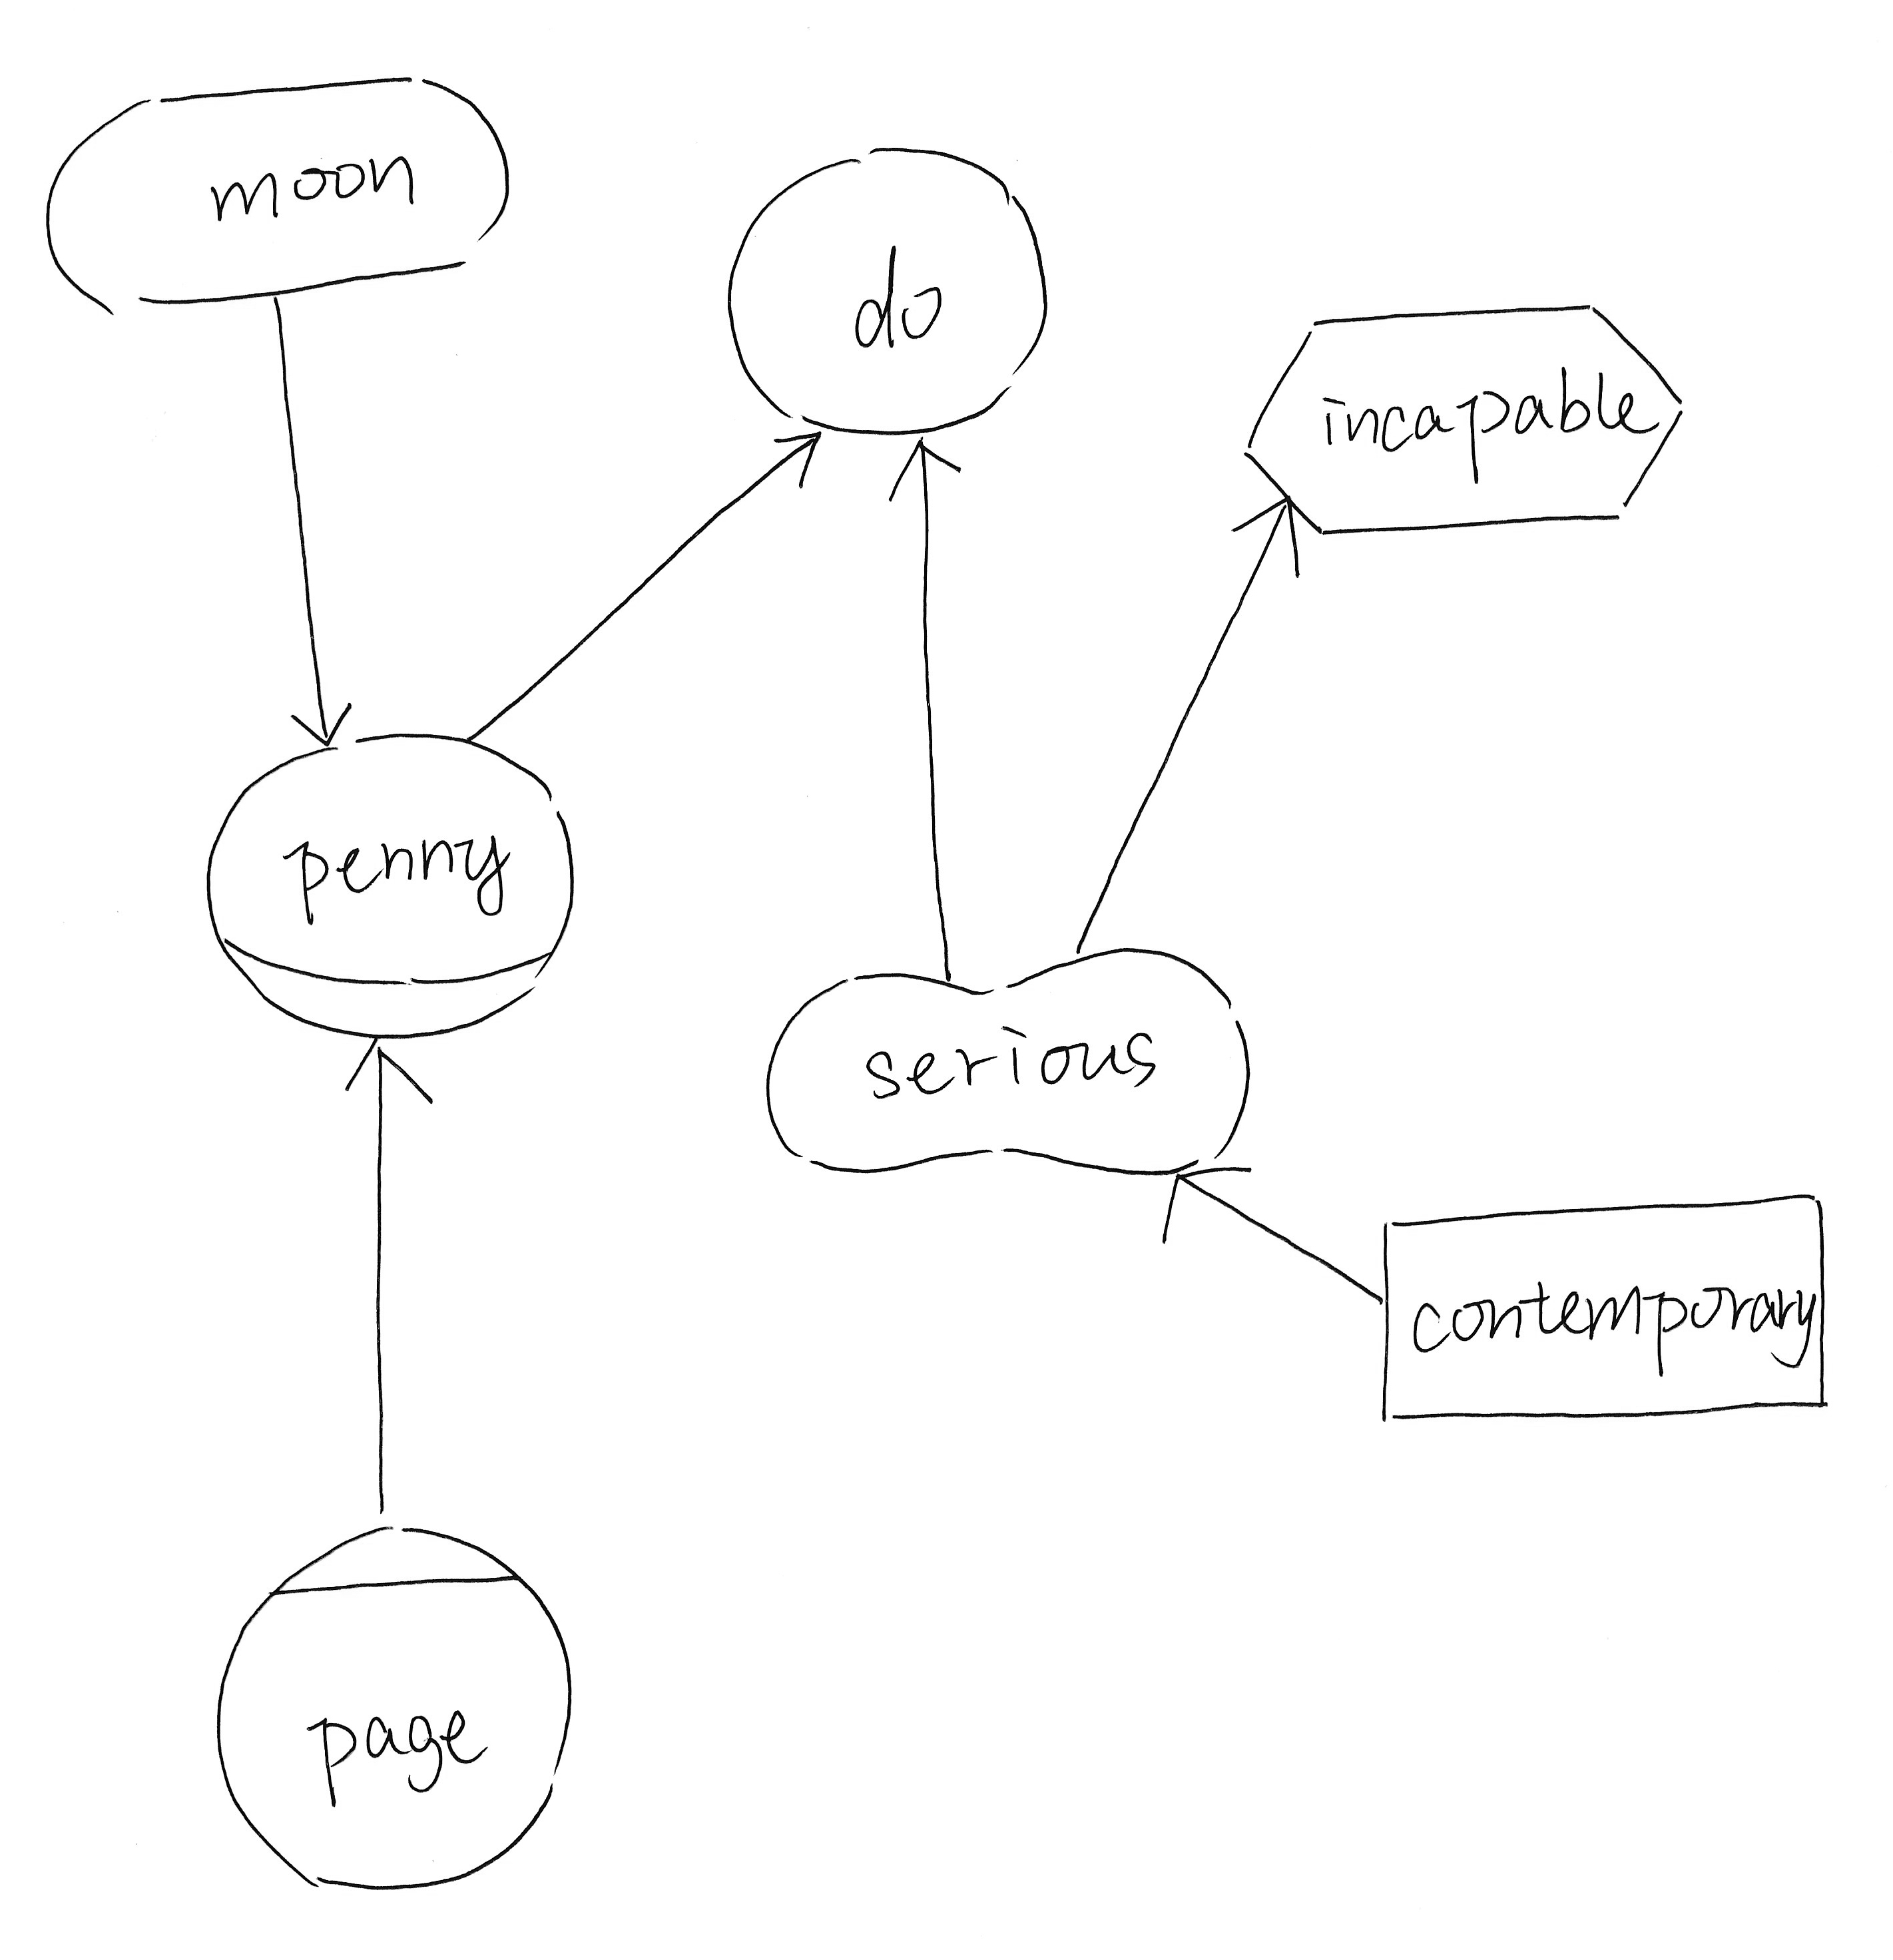actor: (703, 129, 1065, 450)
agent: (198, 1503, 598, 1906)
arrow: (334, 1029, 455, 1122), (1149, 1155, 1265, 1248), (882, 425, 981, 525), (1221, 490, 1316, 591), (752, 418, 836, 506), (276, 689, 364, 759)
goal: (31, 54, 541, 338)
quality: (751, 927, 1263, 1188)
resource: (1356, 1171, 1849, 1435)
role: (184, 716, 591, 1057)
task: (1235, 289, 1701, 548)
